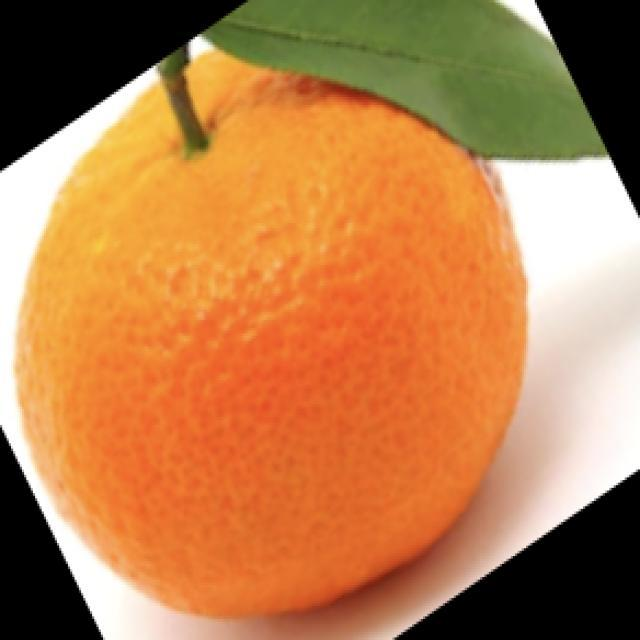Orange: (12, 45, 529, 619)
